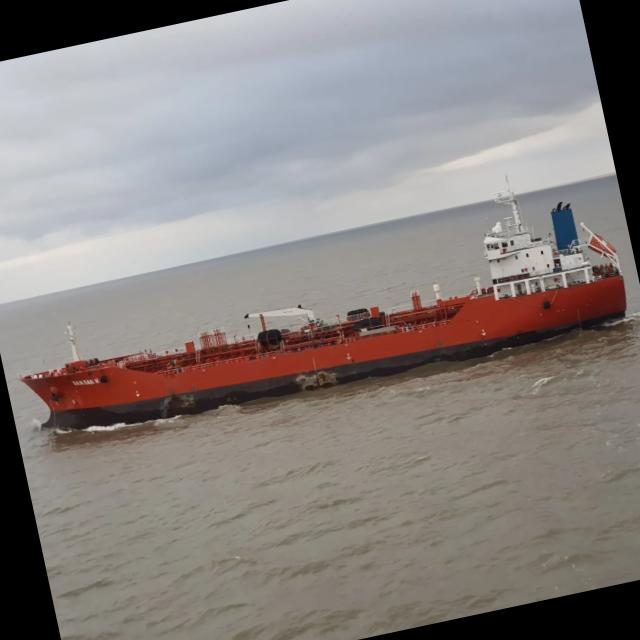Tanker: (19, 186, 626, 429)
